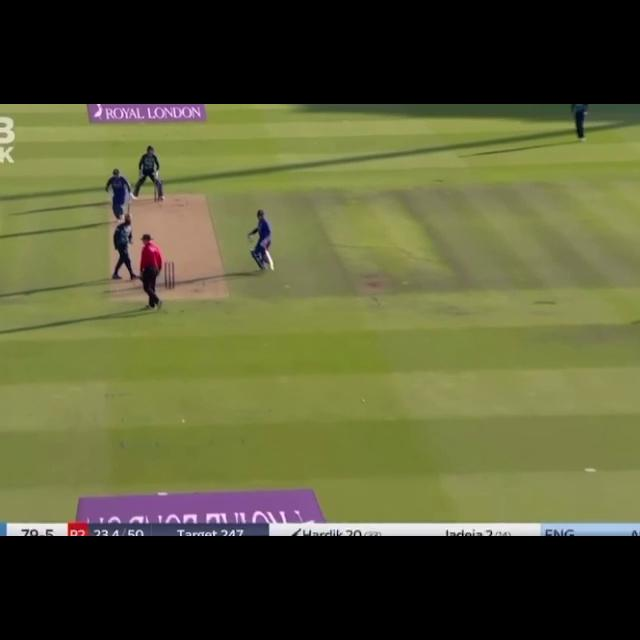umpire: (130, 233, 171, 312)
